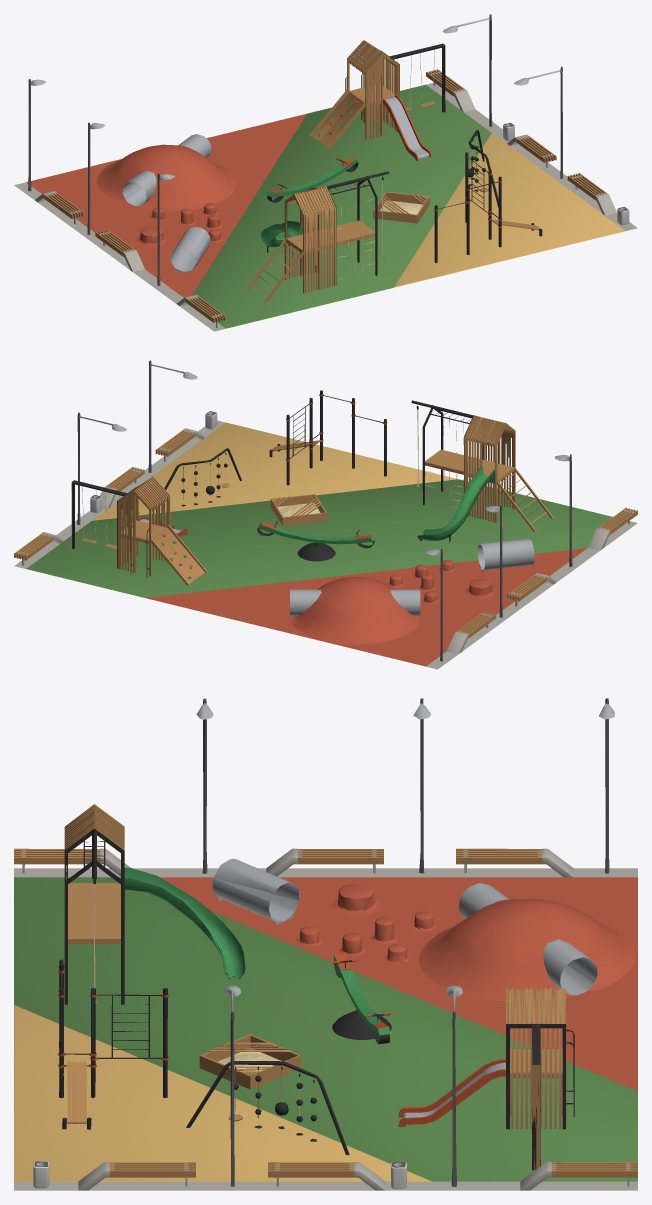
File: playground.glb
3 renders of one model, top to bottom at view 1: azimuth 30°, elevation 25°; view 2: azimuth 150°, elevation 25°; view 3: azimuth 270°, elevation 25°, orthographic. The views are drawn at different scales.
Parts seen in each view (by area): view 1: Base; view 2: Base; view 3: Base.
Boxes of the visible parts, box(x1,y1,x2,y2) form: Base: box(14, 14, 637, 331); Base: box(14, 360, 637, 669); Base: box(14, 698, 637, 1190).
Bounding box in the file's own units: 15.9 × 4.05 × 13.
